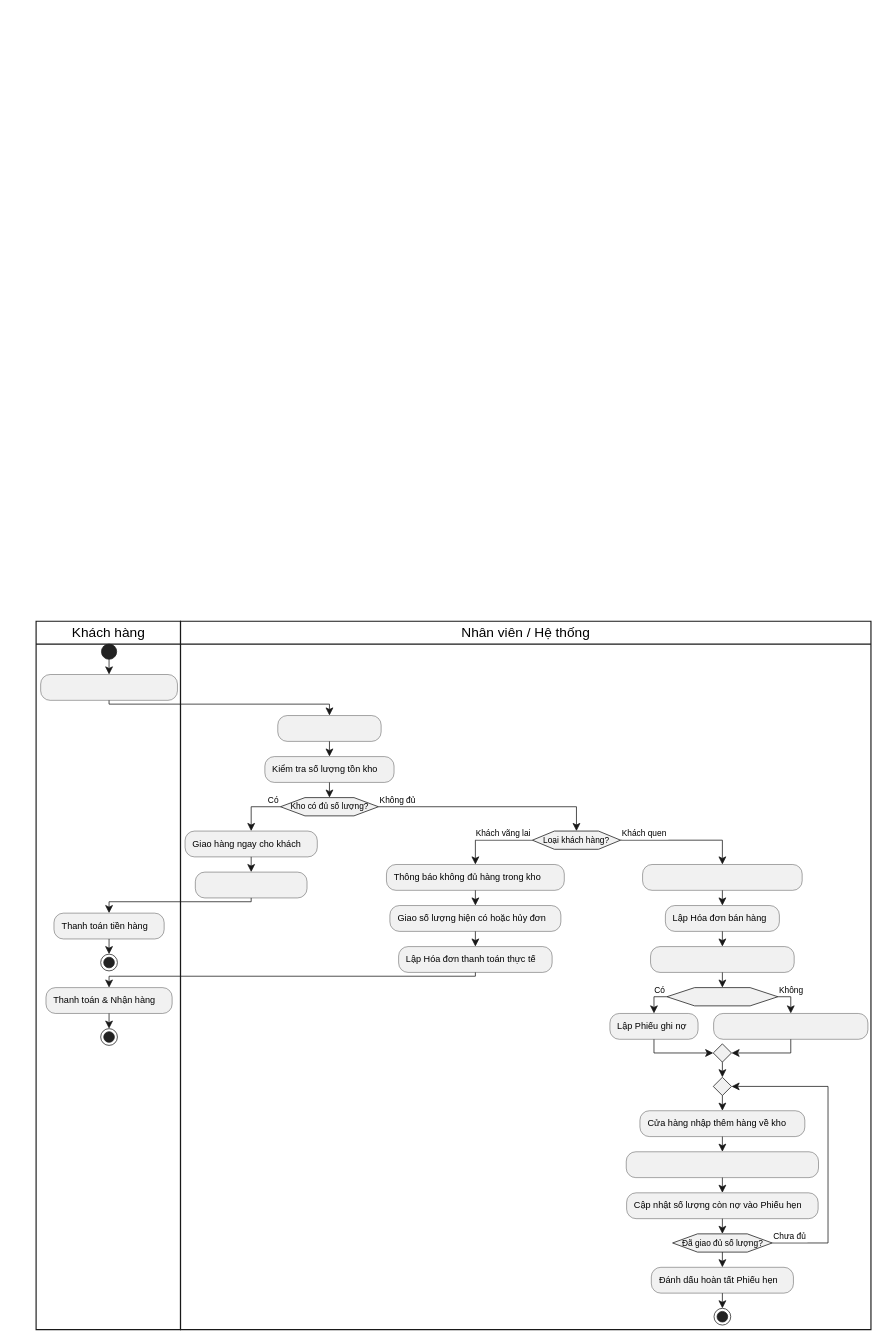
Image size: 885x1343. Some labels were removed from this diagram. Each missing label, with the centre of its shape:
"Giao trước số lượng hàng hiện có" goes at (x=722, y=877).
"Khách muốn trả chậm?" goes at (x=722, y=996).
"Liên hệ khách & Giao hàng đợt tiếp theo" goes at (x=722, y=1164).
"Lập Hóa đơn tính tiền" goes at (x=251, y=885).
"Lập Phiếu hẹn giao nhiều đợt" goes at (x=722, y=959).
"Thanh toán phần hàng đã nhận" goes at (x=790, y=1026).
"Tiếp nhận đơn hàng" goes at (x=329, y=728).
"Yêu cầu mua nước giải khát" goes at (x=108, y=687).
